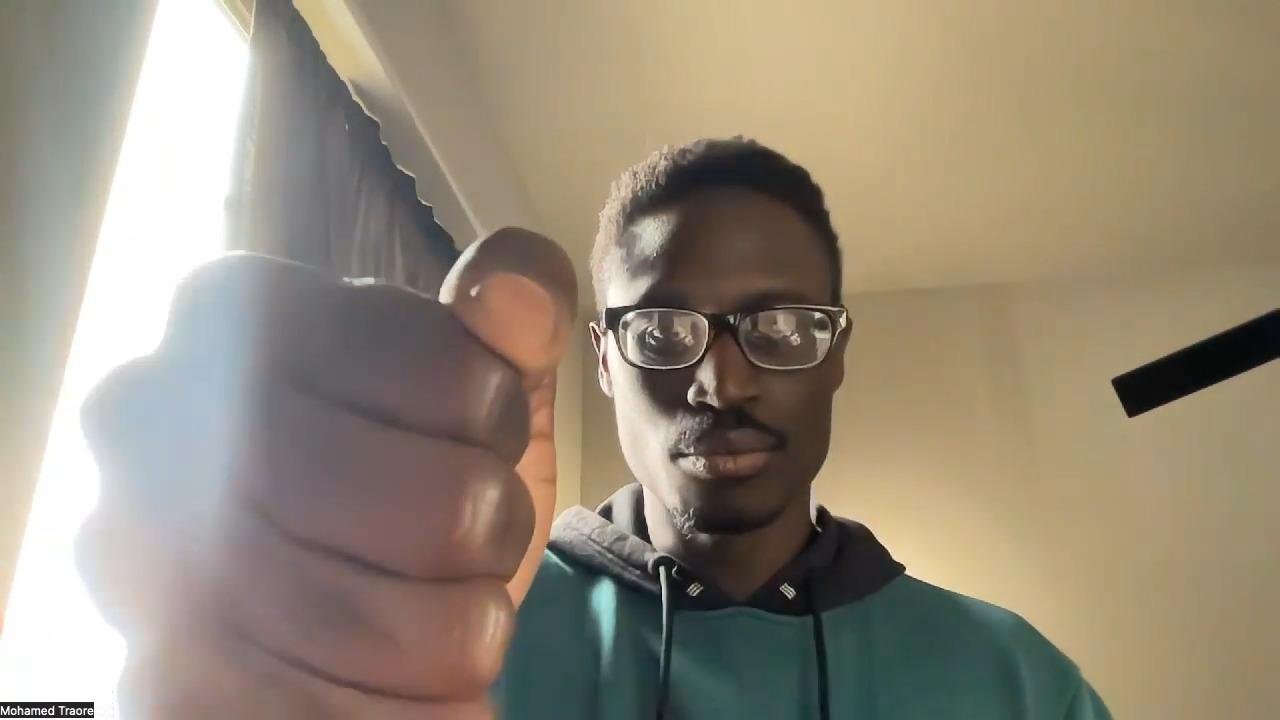Rock: (72, 228, 580, 720)
